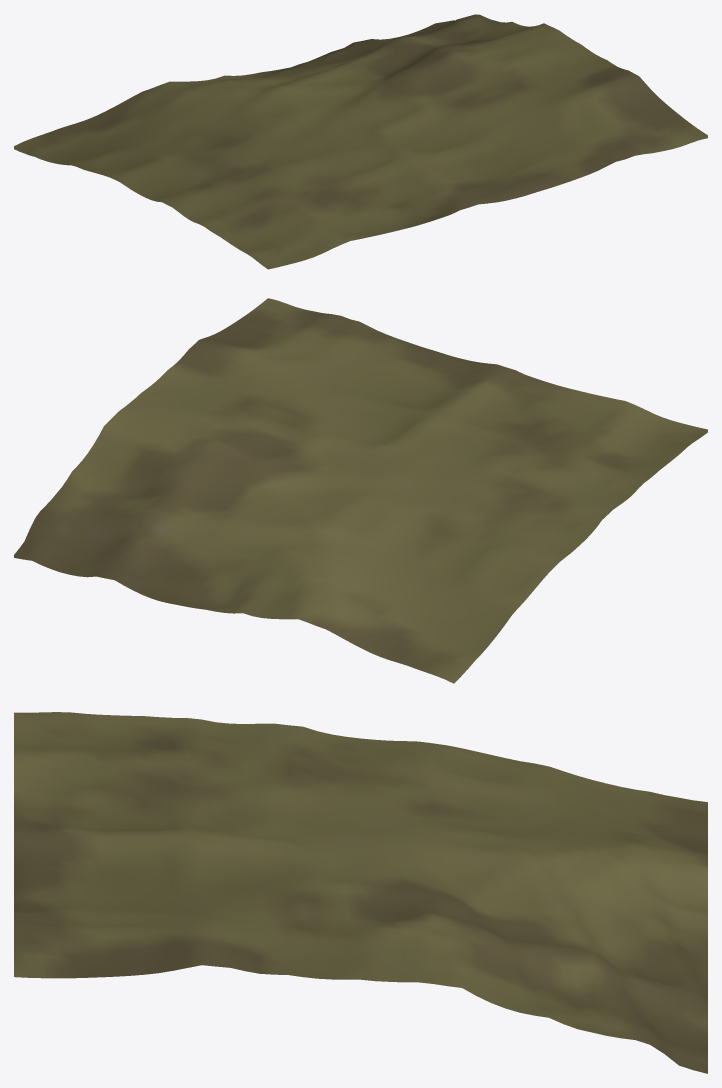
Rendered from land_m_07_10.glb.
The picture shows the model from 3 angles, top to bottom: view 1: azimuth 30°, elevation 25°; view 2: azimuth 150°, elevation 25°; view 3: azimuth 270°, elevation 25°; orthographic projection. The views are drawn at different scales.
Visible parts, largest first — view 1: land_m_07_10; view 2: land_m_07_10; view 3: land_m_07_10.
Part boxes in pixels (box(x1,y1,x2,y2)): land_m_07_10: box(14, 14, 707, 269); land_m_07_10: box(14, 298, 707, 683); land_m_07_10: box(14, 712, 707, 1073).
Size of the model in its own units: 960 by 211 by 960.
